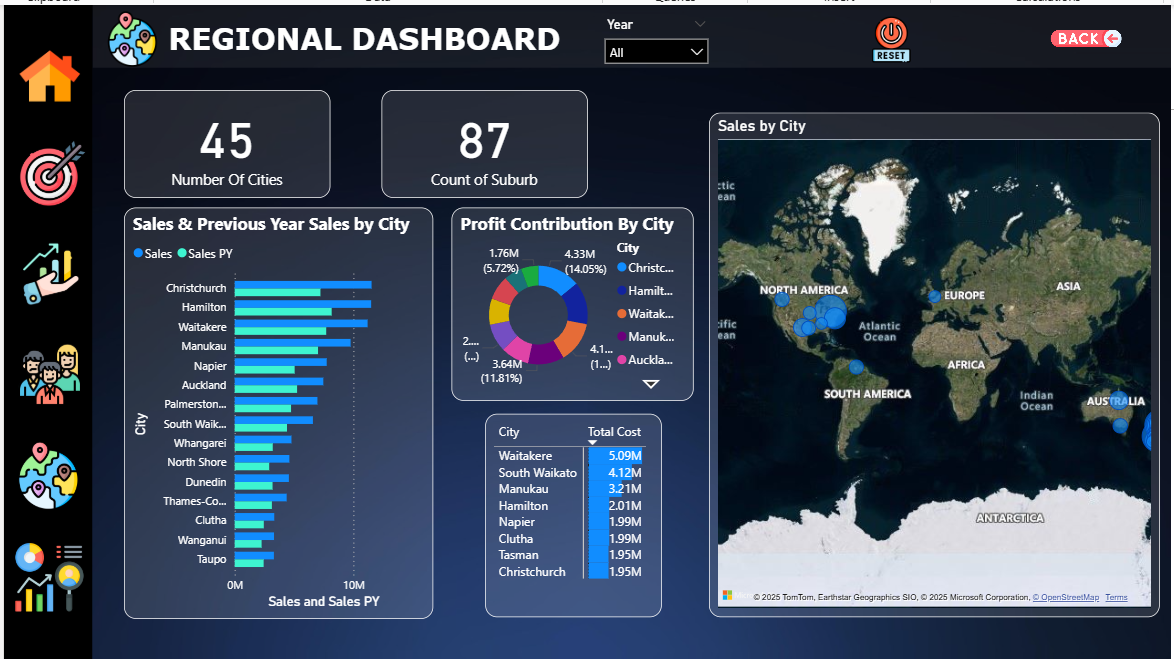

This screenshot's page, from the dashboard's own definition file:
{"tool":"powerbi","page":{"name":"Regional dashboard ","canvas":[1280,720],"ordinal":4},"visuals":[{"type":"shape","box":[97.2,0,1182.8,69],"z":0},{"type":"textbox","box":[175.9,12.6,475.3,54.4],"z":1000},{"type":"slicer","fields":{"Values":["DAX DateTable.Year"]},"box":[648.3,7.8,134.1,70],"z":2000},{"type":"shape","box":[0,0,97,720],"z":3000},{"type":"map","fields":{"Category":["Regions_Table.City"],"Size":["Measured table.Sales"]},"box":[772.7,118.6,494.7,554],"z":4000},{"type":"card","fields":{"Values":["Measured table.Number Of Cities"]},"box":[132.2,93.3,226.5,118.6],"z":5000},{"type":"card","fields":{"Values":["Count(Regions_Table.Suburb)"]},"box":[414,93.3,226.5,118.6],"z":6000},{"type":"clusteredBarChart","title":"Sales & Previous Year Sales by City","fields":{"Category":["Regions_Table.City"],"Y":["Measured table.Sales","Measured table.Sales PY"]},"box":[132.2,222.6,339.2,451],"z":7000},{"type":"donutChart","title":"Profit Contribution By City","fields":{"Category":["Regions_Table.City"],"Y":["Measured table.Profit"]},"box":[490.8,222.6,265.3,211.9],"z":8000},{"type":"pivotTable","title":"Total Cost by City","fields":{"Rows":["Regions_Table.City"],"Values":["Measured table.Total Cost"]},"box":[527.7,448,193.4,223.5],"z":9000},{"type":"image","box":[4.9,473.1,86.5,86.5],"z":10000},{"type":"image","box":[7.8,362.1,81.6,86.5],"z":11000},{"type":"image","box":[10.7,140.1,86.5,87.5],"z":12000},{"type":"image","box":[10.7,252.1,80.7,85.5],"z":13000},{"type":"image","box":[5.8,584.1,88.4,87.5],"z":14000},{"type":"image","box":[8.7,39.8,83.6,75.8],"z":14003},{"type":"image","box":[943.7,4.9,60.3,64.1],"z":14004},{"type":"image","box":[1143,0,87.5,73.9],"z":14005},{"type":"image","box":[9.7,362.1,81.6,86.5],"z":14006},{"type":"image","box":[105,1,70.9,71.9],"z":14007}]}

Visuals, with their boxes in screenshot pixels (x1, y1, x2, y2), scaled from the page's 1280x720 canvas onto the 1174x659 screenshot:
shape: 89 0 1173 63
textbox: 161 12 597 61
slicer - DAX DateTable.Year: 595 7 718 71
shape: 0 0 89 658
map - Regions_Table.City x Measured table.Sales: 709 109 1162 616
card - Measured table.Number Of Cities: 121 85 329 194
card - Count(Regions_Table.Suburb): 380 85 587 194
"Sales & Previous Year Sales by City" clusteredBarChart: 121 204 432 617
"Profit Contribution By City" donutChart: 450 204 693 398
"Total Cost by City" pivotTable: 484 410 661 615
image: 4 433 84 512
image: 7 331 82 411
image: 10 128 89 208
image: 10 231 84 309
image: 5 535 86 615
image: 8 36 85 106
image: 866 4 921 63
image: 1048 0 1129 68
image: 9 331 84 411
image: 96 1 161 67
